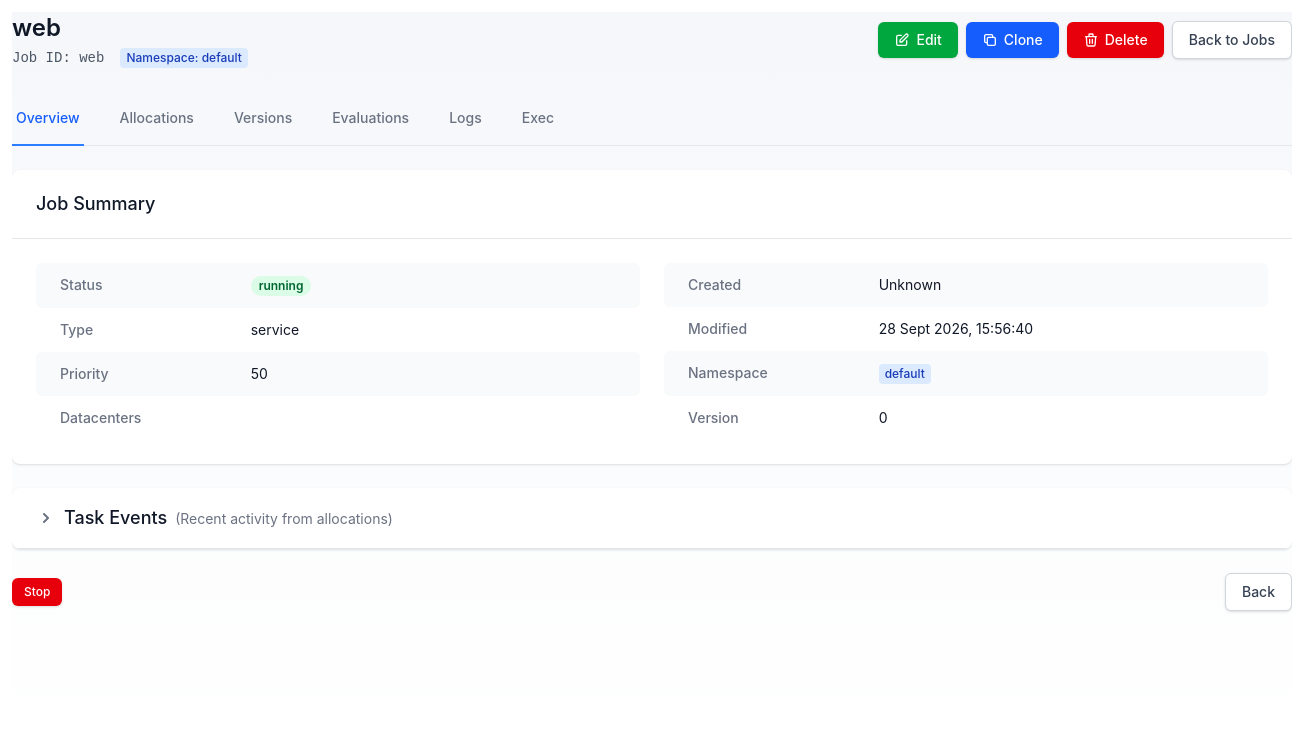
Test: JobDetailPage allocations › lists the allocations of the job with their actions
Click the button "Allocations".
click(157, 119)  # box [116,92,198,146]
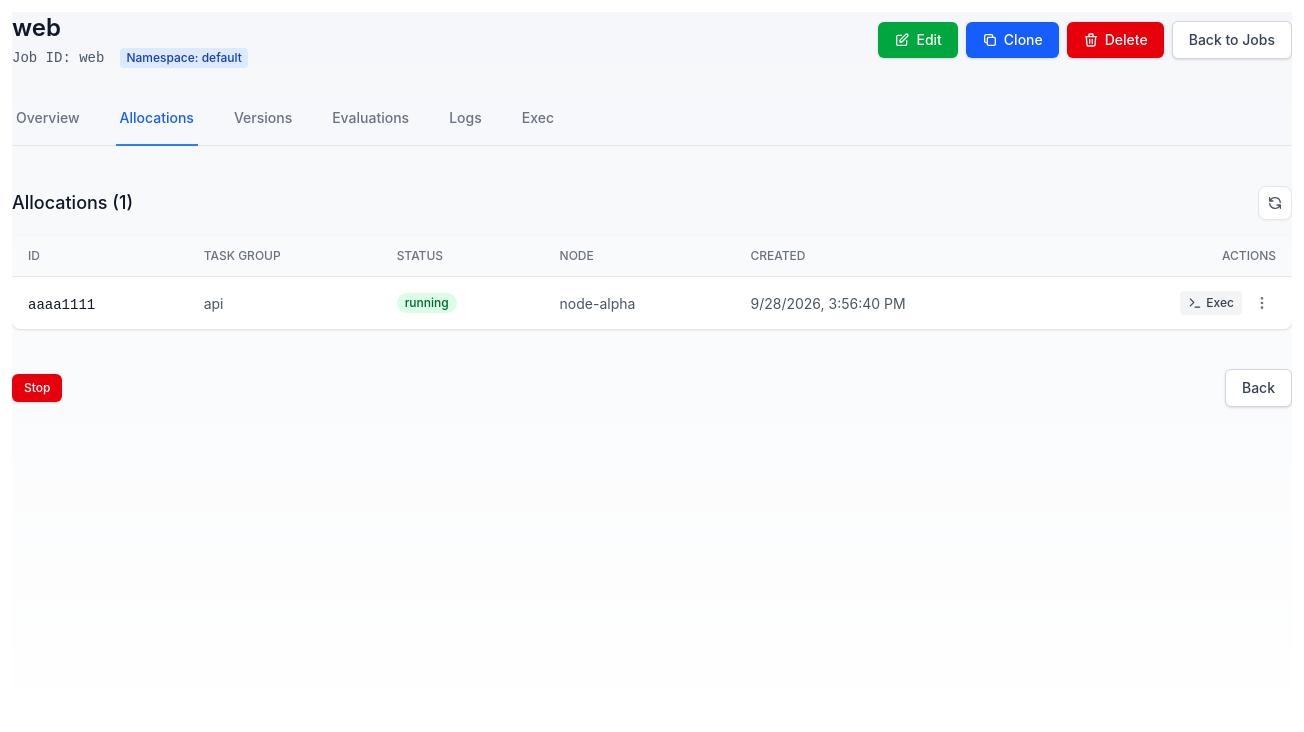
Expected: the heading "Allocations (1)" is shown, [12,189,133,217]
Expected: the text "aaaa1111" is shown 2 times
Expected: the text "node-alpha" is shown 2 times
